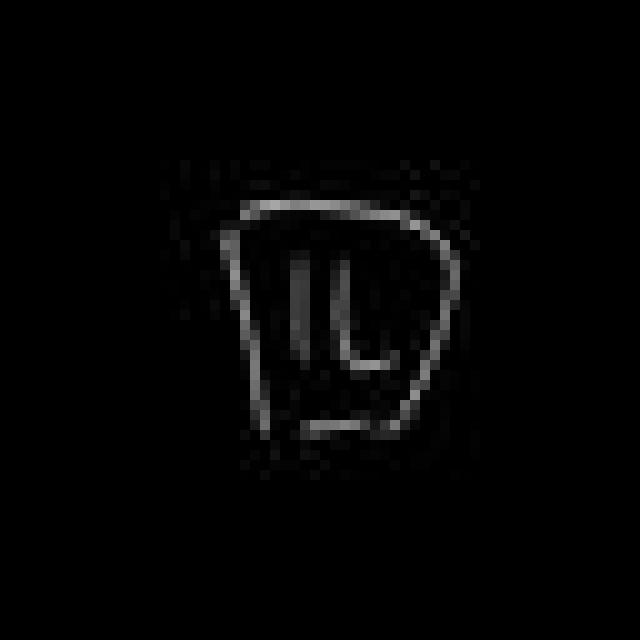4 -four-: (200, 182, 474, 460)
